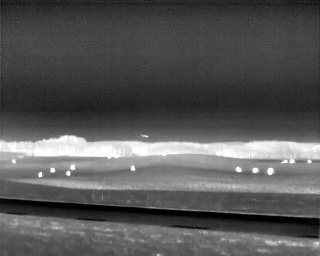AIRPLANE: (139, 132, 150, 140)
